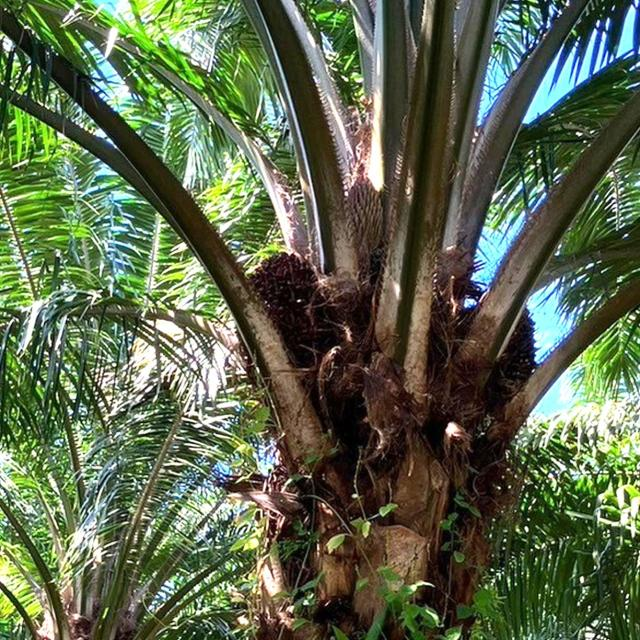ripe: (252, 252, 319, 342)
